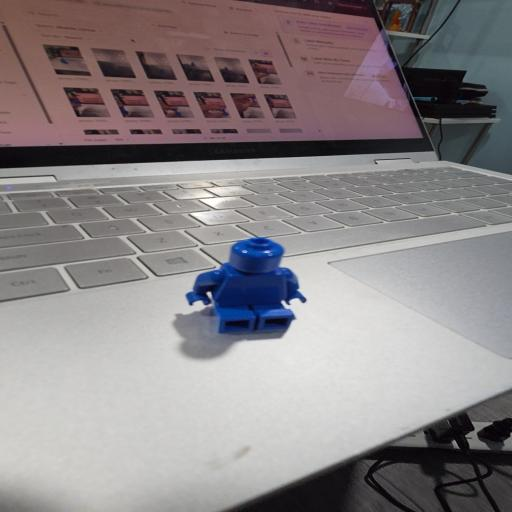Blue: (186, 238, 306, 333)
